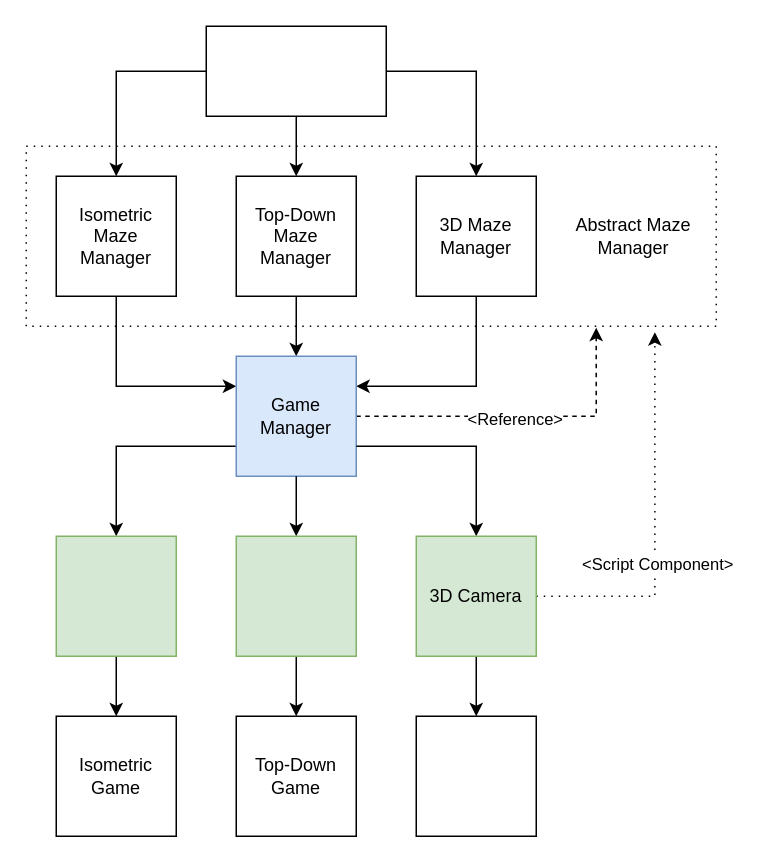
This 759x863 diagram has some shape labels left out. The centre of each missing label's shape, as x and y in pixels:
"3D Game" goes at point 475,775.
"Isometric Camera" goes at point 115,595.
"Maze Generator" goes at point 295,70.
"Top-Down Camera" goes at point 295,595.
